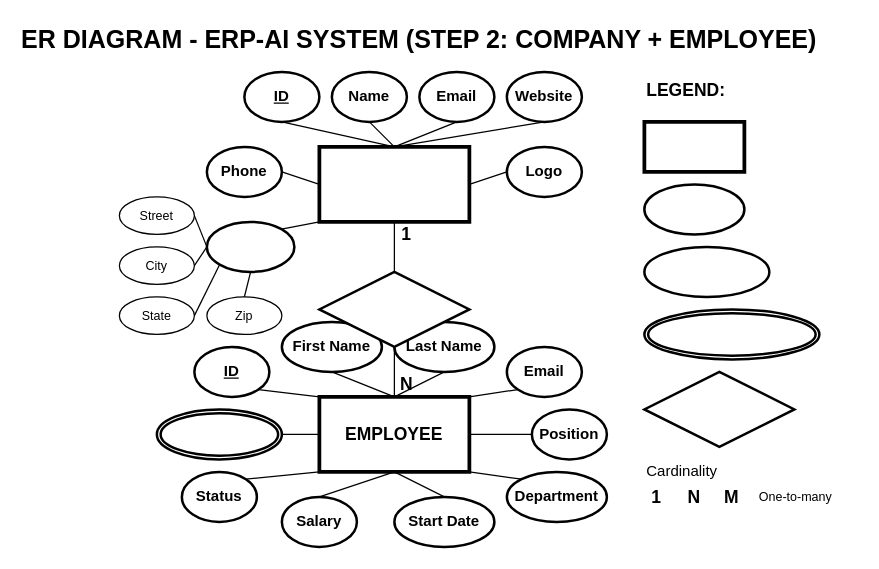
Image size: 879x569. Some labels were removed from this diagram. The shapes that lost their labels are listed below. From the top down, each one's centre as x and y in pixels, then its label:
At point (694, 146): "Entity".
At point (394, 183): "COMPANY".
At point (693, 208): "Attribute".
At point (250, 246): "Address".
At point (706, 271): "Key Attribute".
At point (394, 309): "EMPLOYS".
At point (731, 334): "Multi-valued Attribute".
At point (718, 409): "Relationship".
At point (218, 434): "Phone Numbers".
